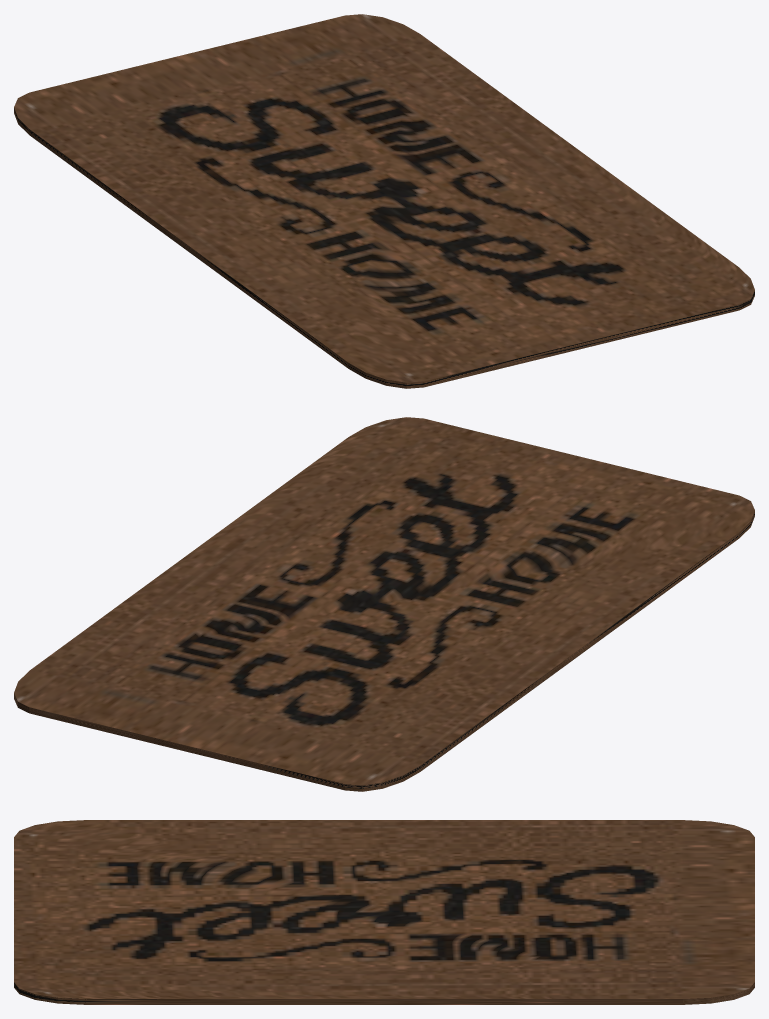
The model's file is doorMat.fbx.
The picture shows the model from 3 angles, top to bottom: view 1: azimuth 30°, elevation 25°; view 2: azimuth 150°, elevation 25°; view 3: azimuth 270°, elevation 25°; orthographic projection. The views are drawn at different scales.
Visible parts, largest first — view 1: Cube; view 2: Cube; view 3: Cube.
Boxes of the visible parts, x1,y1,x2,y2 form: Cube: (14, 14, 754, 388); Cube: (14, 417, 754, 791); Cube: (14, 820, 754, 1004).
Bounding box in the file's own units: 482 × 7.25 × 843.
